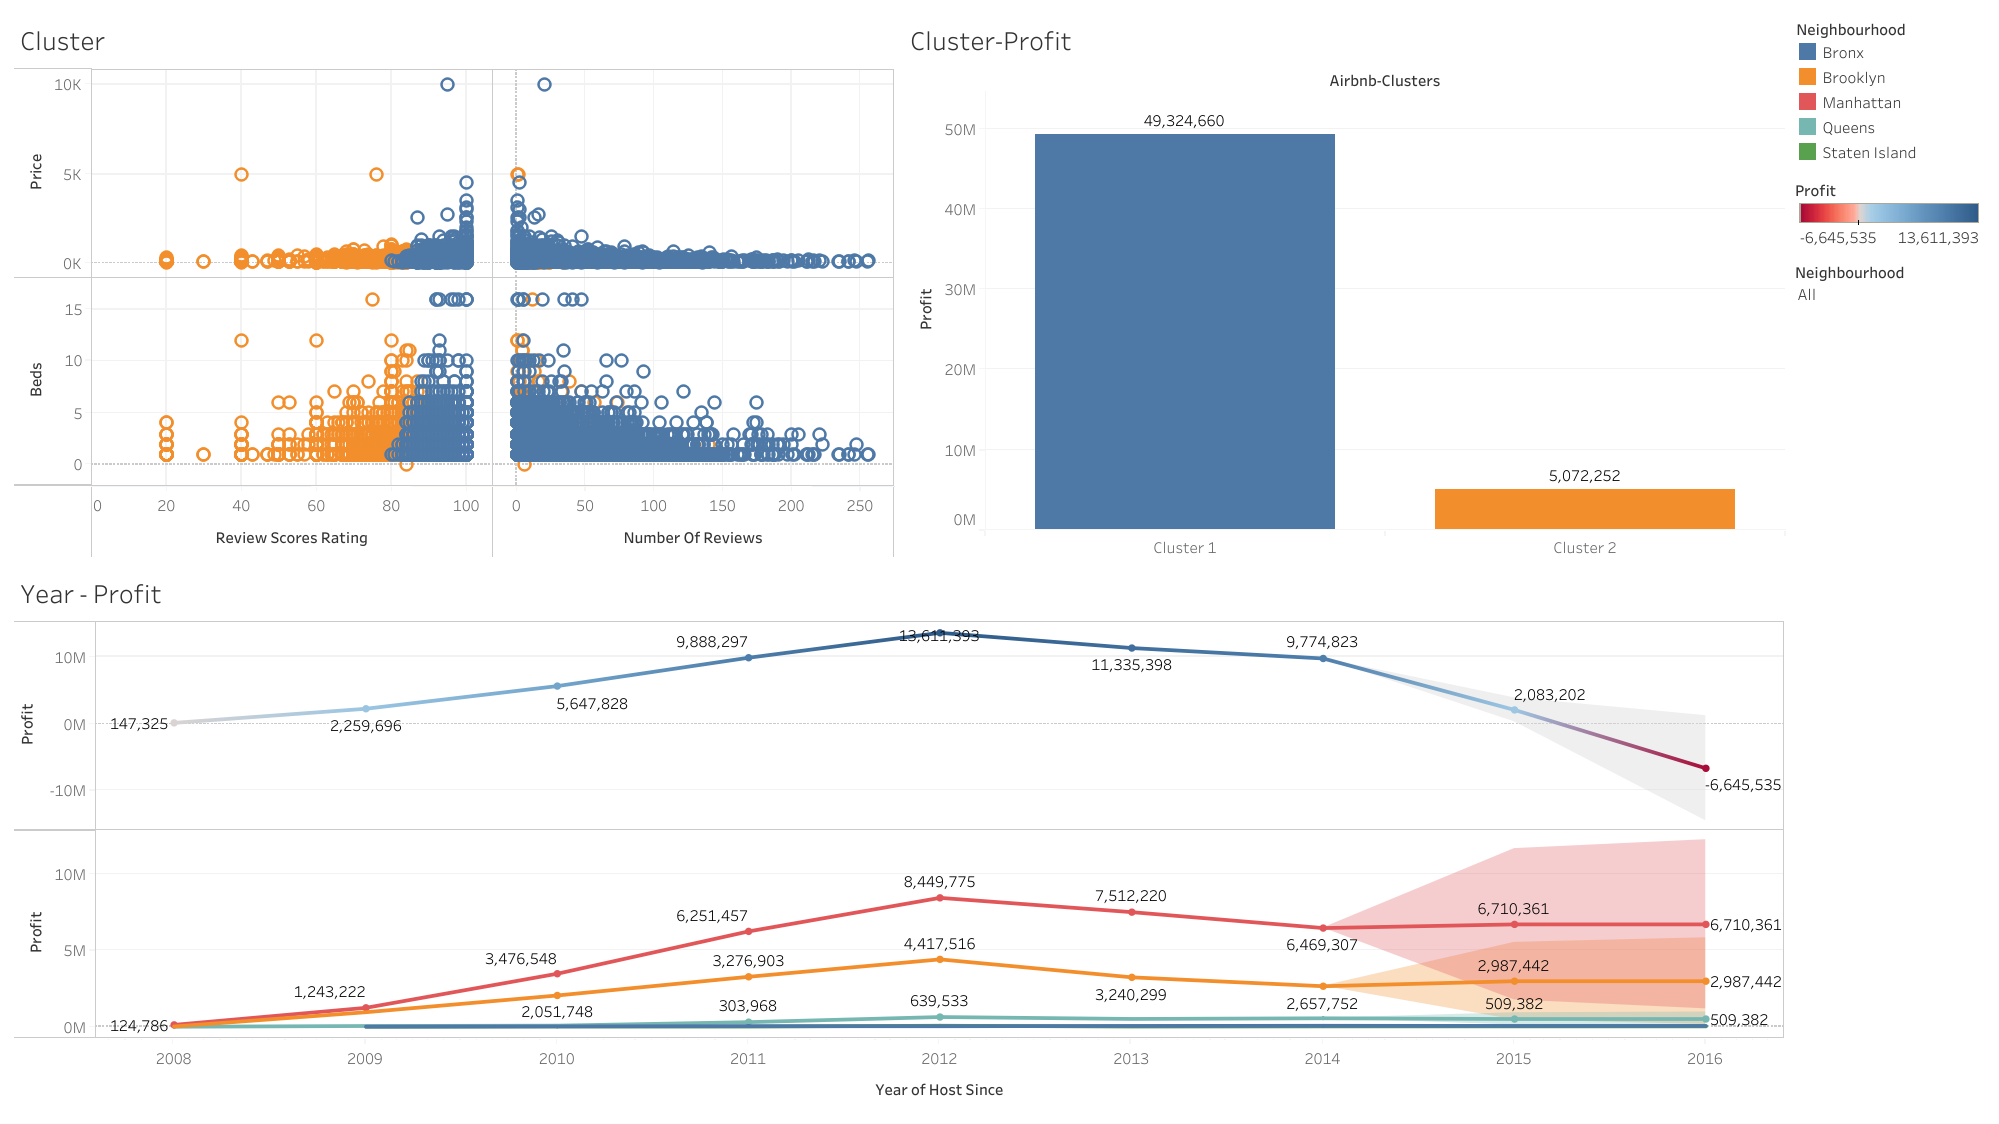

Layout of this report page (visuals, bound fields, positions):
{"tool":"tableau","page":{"name":"MED Beds - Cluster-Profit","canvas":[1600,900],"ordinal":0},"visuals":[{"type":"worksheet","title":"Cluster","mark":"Automatic","rows":["Price","Beds"],"cols":["Review Scores Rating","Number Of Reviews"],"box":[8,8,712,442]},{"type":"worksheet","title":"Cluster-Profit","mark":"Automatic","rows":["Calculation_667095754605002752"],"box":[720,8,712,442]},{"type":"legend","title":"Cluster","param":"[federated.0j0w5ul0jr4dh91d4lxyd0nrqbqj].[none:AdhocCluster:3:ok]","box":[1432,8,160,72]},{"type":"worksheet","title":"Year - Profit","mark":"Automatic","rows":["Calculation_667095754605002752"],"cols":["Host Since"],"box":[8,450,1424,442]}]}

Visuals, with their boxes in screenshot pixels (x1, y1, x2, y2), scaled from the page's 1600x900 canvas onto the 1999x1124 screenshot:
"Cluster" worksheet: {"left": 10, "top": 10, "right": 900, "bottom": 562}
"Cluster-Profit" worksheet: {"left": 900, "top": 10, "right": 1789, "bottom": 562}
"Cluster" legend: {"left": 1789, "top": 10, "right": 1989, "bottom": 100}
"Year - Profit" worksheet: {"left": 10, "top": 562, "right": 1789, "bottom": 1114}
